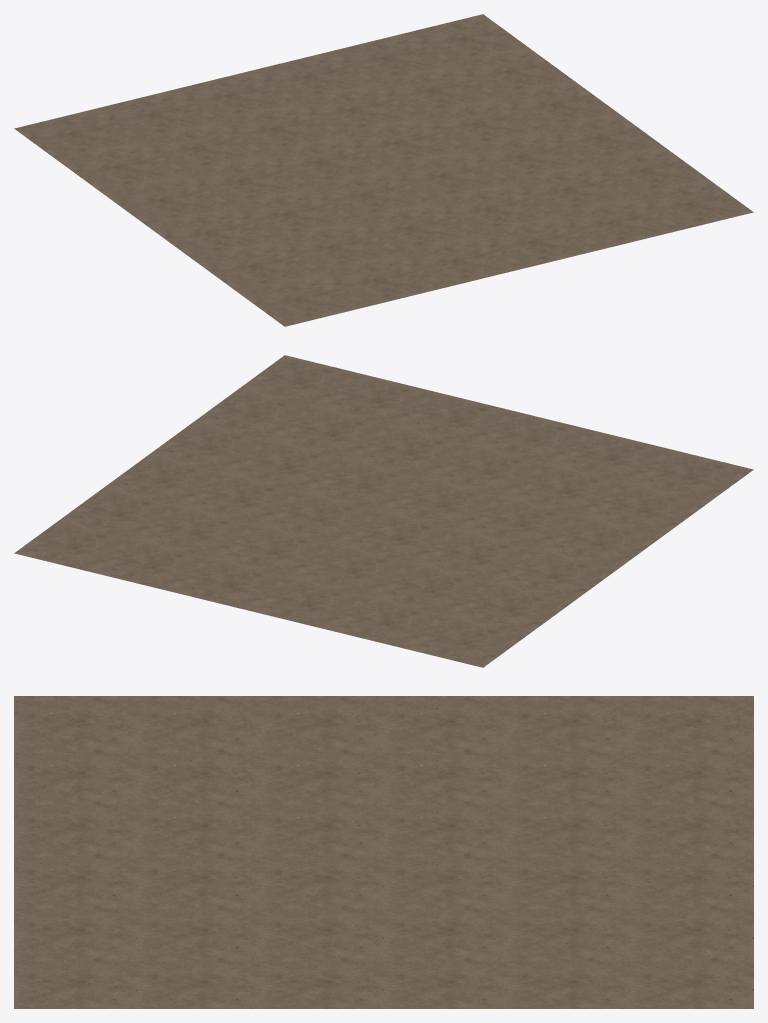
The model's file is lot_ground.glb.
3 renders of one model, top to bottom at view 1: azimuth 30°, elevation 25°; view 2: azimuth 150°, elevation 25°; view 3: azimuth 270°, elevation 25°, orthographic. The views are drawn at different scales.
Parts seen in each view (by area): view 1: lot_ground; view 2: lot_ground; view 3: lot_ground.
Part boxes in pixels (bbox=[...]): lot_ground: bbox=[14, 14, 753, 326]; lot_ground: bbox=[14, 355, 753, 667]; lot_ground: bbox=[14, 696, 753, 1008].
Bounding box in the file's own units: 24 × 0 × 24.
Materials: 1 (1 with a texture image).
